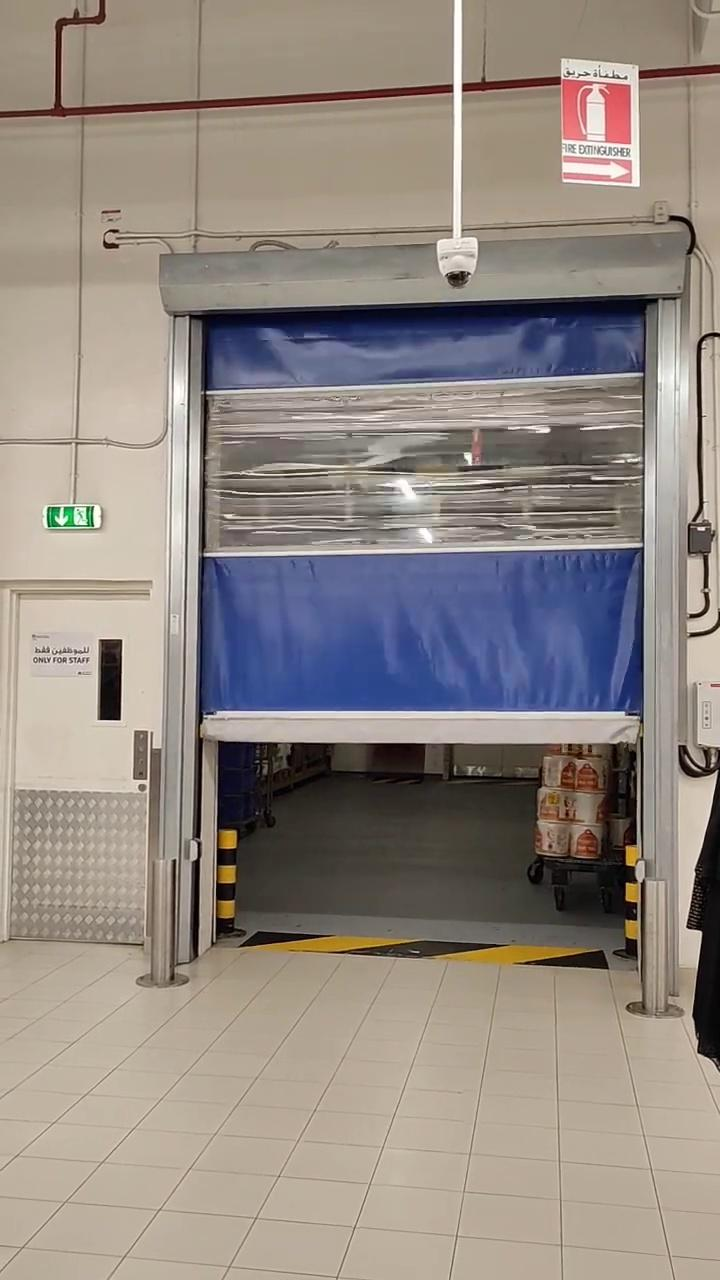Strip: (248, 913, 609, 973)
